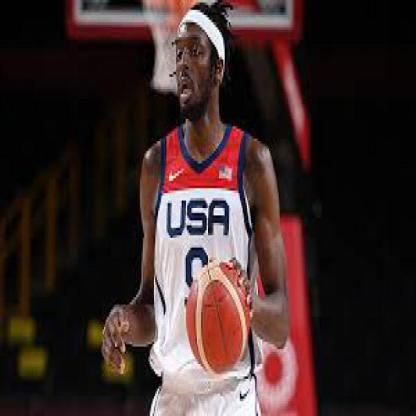basketball: (186, 260, 251, 376)
